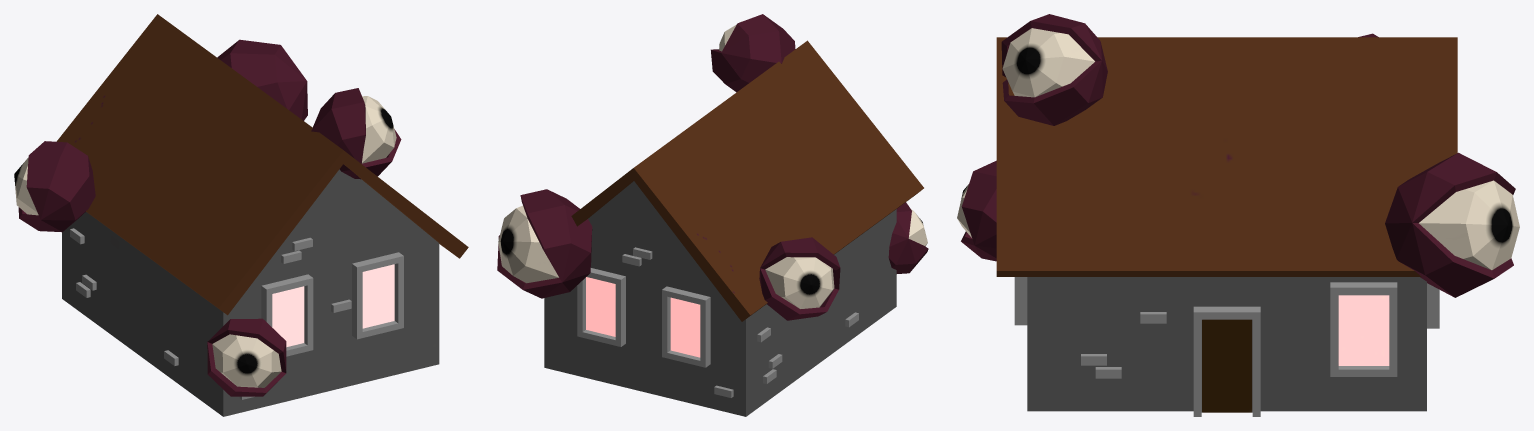
The model's file is Build_2_Eye.fbx.
3 views of the same model, side by side, from view 1: azimuth 30°, elevation 25°; view 2: azimuth 150°, elevation 25°; view 3: azimuth 270°, elevation 25° (orthographic). The views are drawn at different scales.
Visible parts, largest first — view 1: No_Madness.006; view 2: No_Madness.006; view 3: No_Madness.006.
Boxes of the visible parts, x1,y1,x2,y2 form: No_Madness.006: (14, 14, 468, 416); No_Madness.006: (497, 14, 928, 416); No_Madness.006: (957, 14, 1519, 416).
Bounding box in the file's own units: 3.91 × 3.24 × 4.78.
